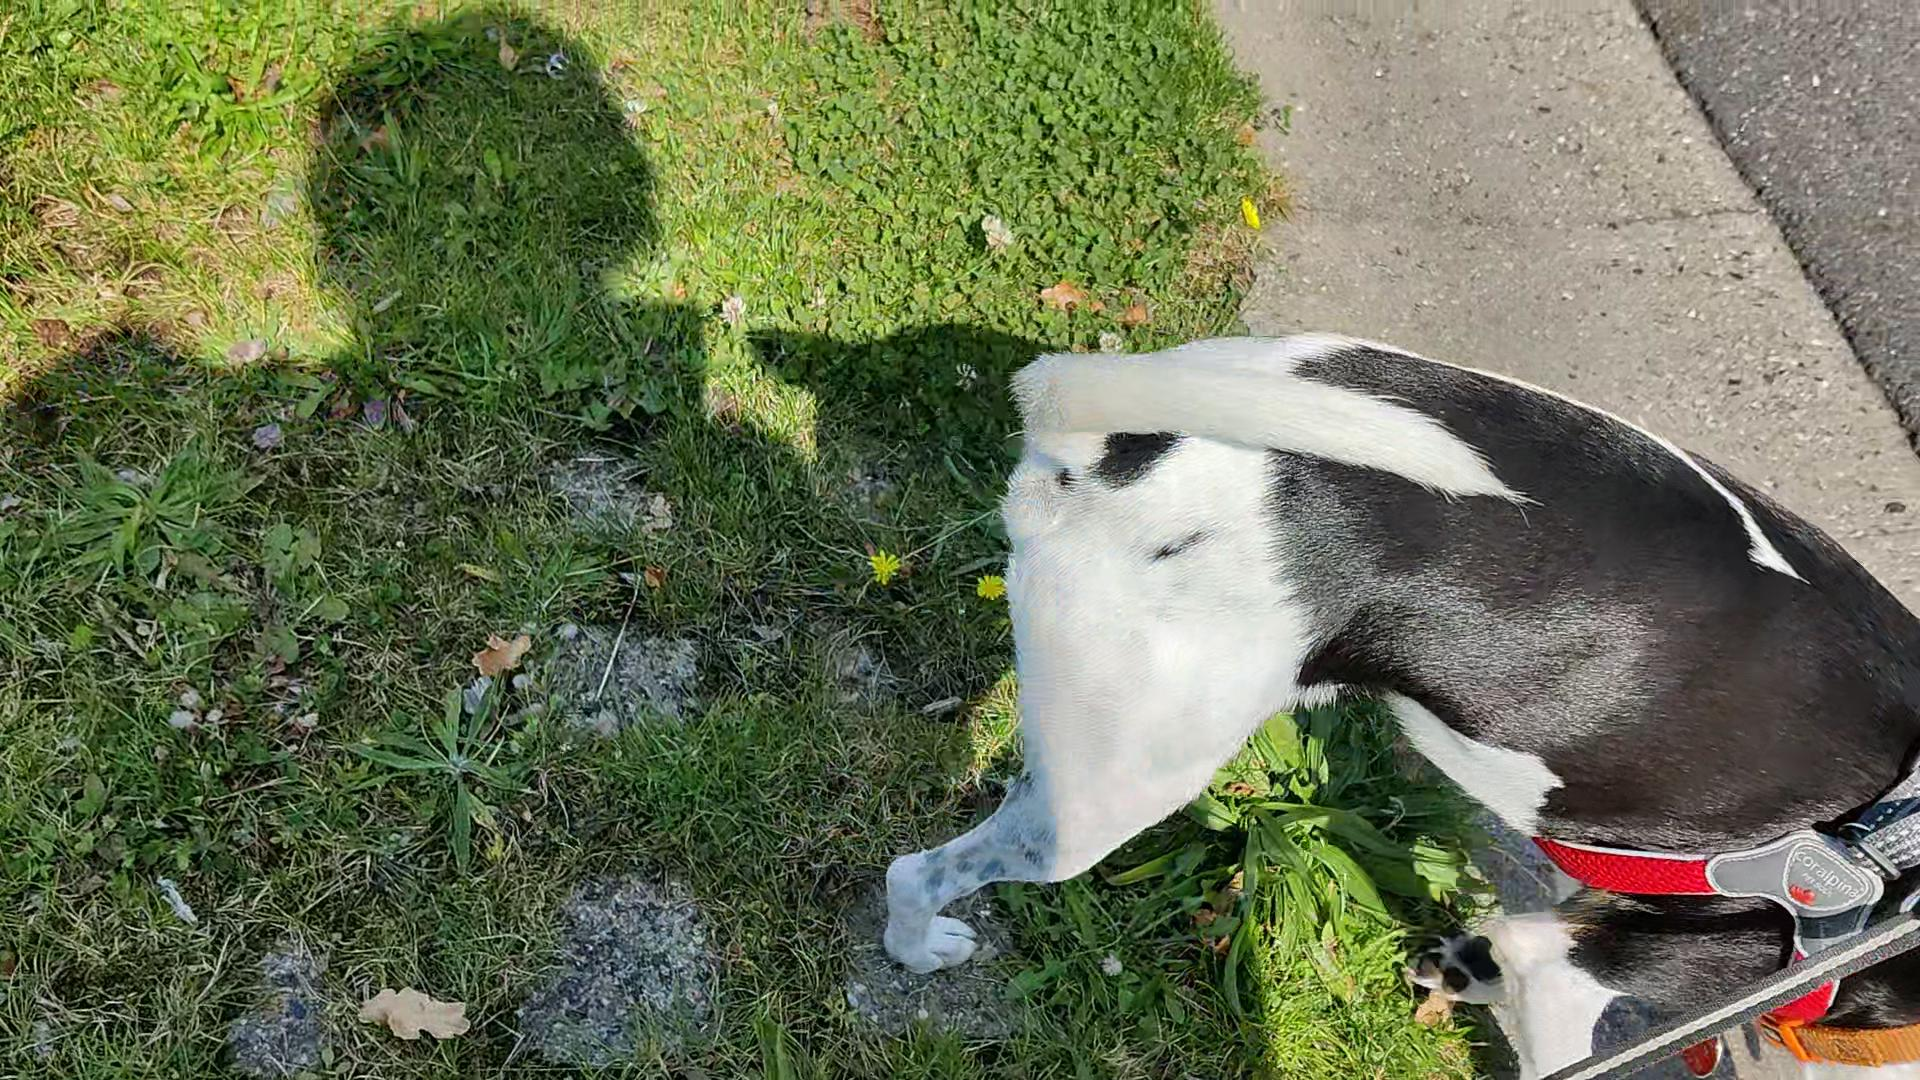Dog: (876, 314, 1919, 1079)
